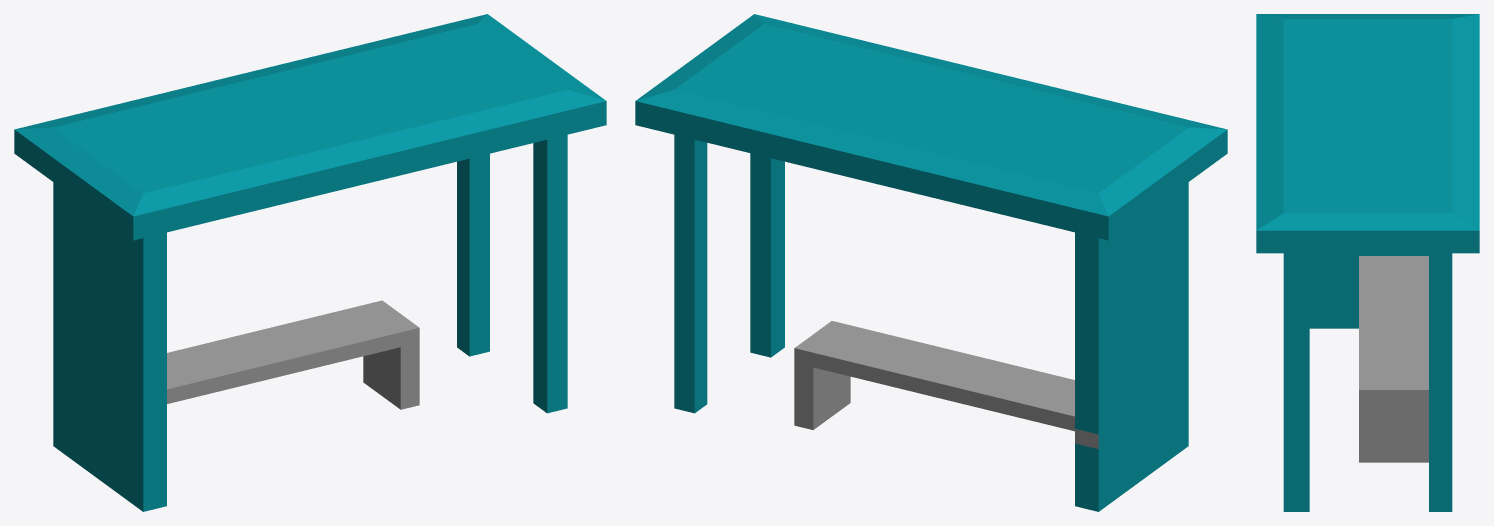
Rendered from BusStop.fbx.
3 views of the same model, side by side, from view 1: azimuth 30°, elevation 25°; view 2: azimuth 150°, elevation 25°; view 3: azimuth 270°, elevation 25° (orthographic). The views are drawn at different scales.
Parts seen in each view (by area): view 1: BusStop; view 2: BusStop; view 3: BusStop.
Boxes of the visible parts, x1=… form: BusStop: x1=14, y1=14, x2=606, y2=511; BusStop: x1=635, y1=14, x2=1227, y2=511; BusStop: x1=1256, y1=14, x2=1479, y2=511.
Bounding box in the file's own units: 152 × 97.55 × 66.02.
